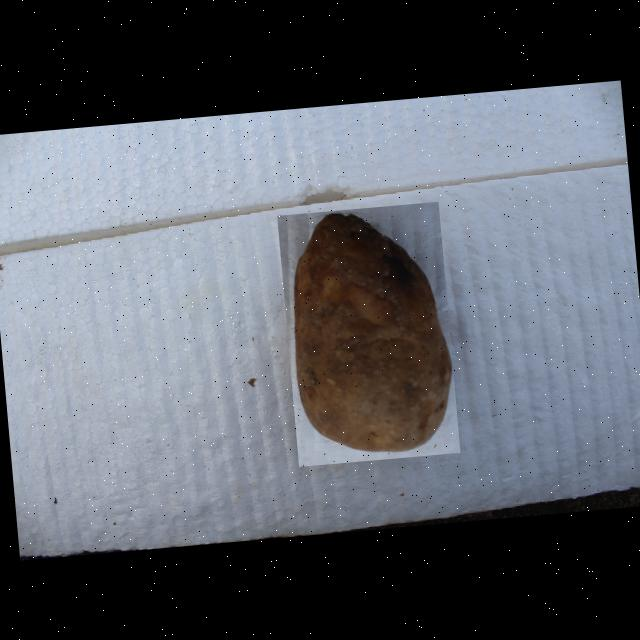Diseased-fungal potato: (277, 202, 460, 466)
